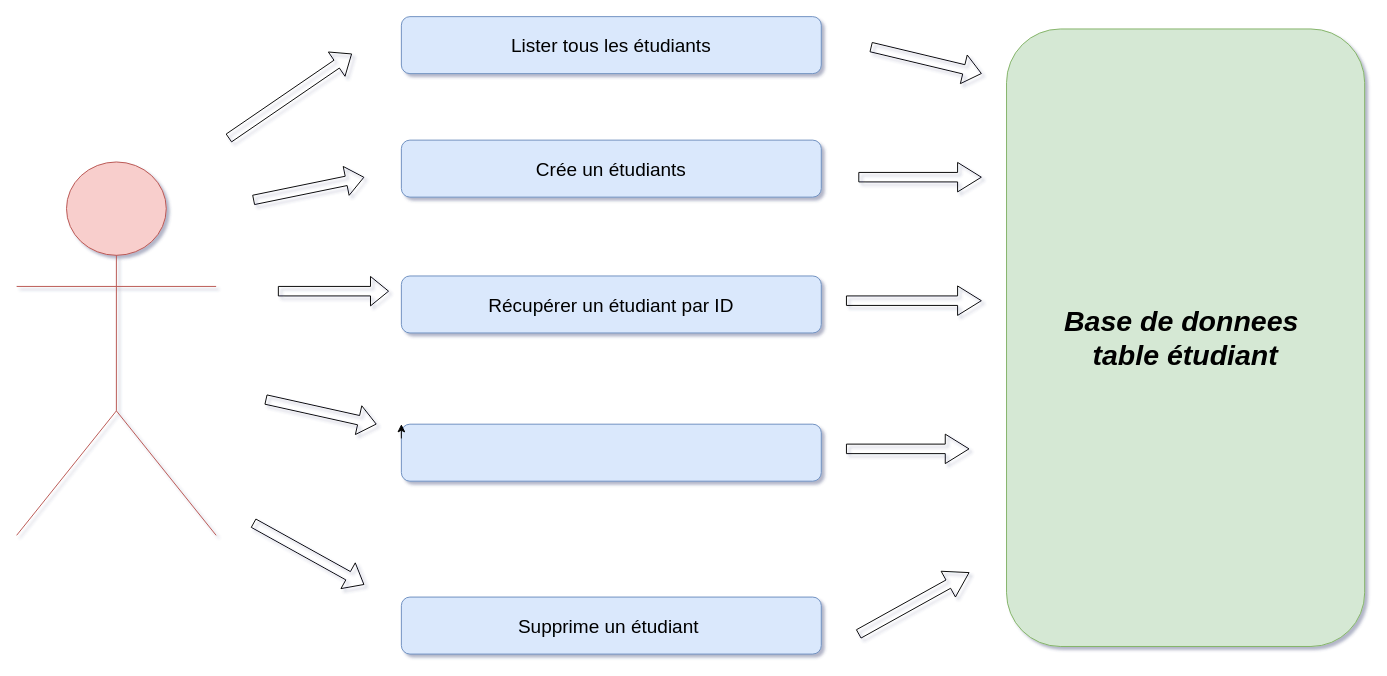
Image size: 1387x676. Some labels were removed from this diagram. Each missing label, with the box of its shape:
Mettre a jour un étudiants: (400, 423, 821, 481)
Utilisateur: (16, 161, 216, 535)
